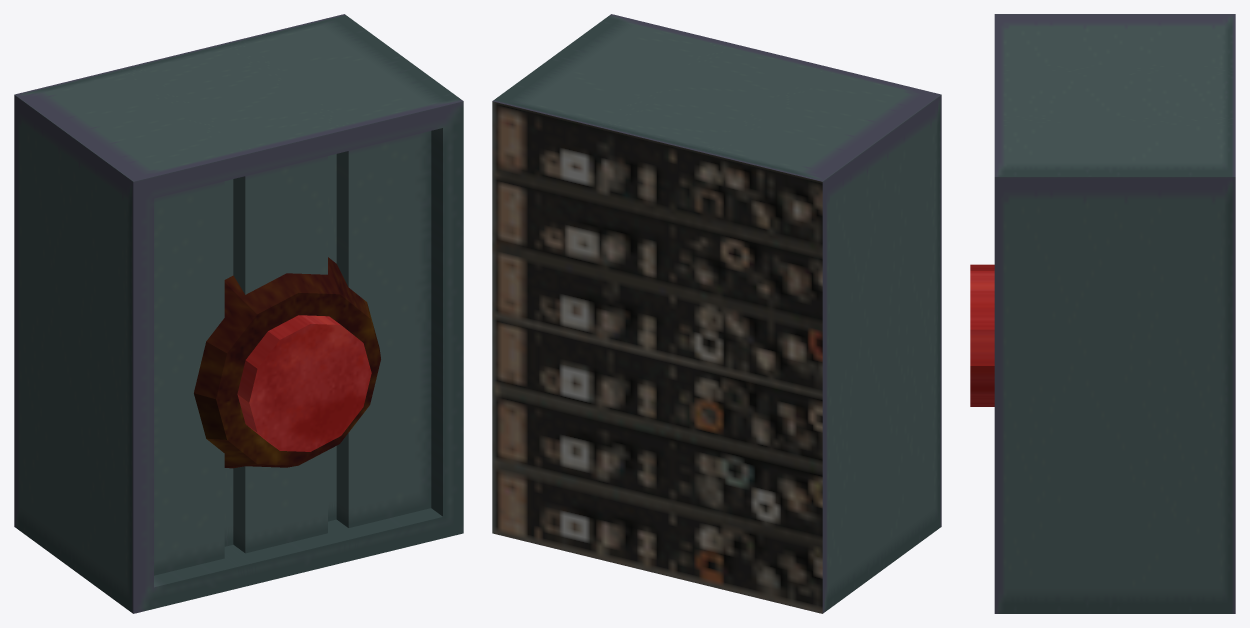
File: switch_button.glb
The picture shows the model from 3 angles, left to right: view 1: azimuth 30°, elevation 25°; view 2: azimuth 150°, elevation 25°; view 3: azimuth 270°, elevation 25°; orthographic projection.
Visible parts, largest first — view 1: SwitchBox, SwitchButton, Button; view 2: SwitchBox; view 3: SwitchBox, Button.
Boxes of the visible parts, x1,y1,x2,y2 form: SwitchBox: (14, 14, 463, 613); SwitchButton: (194, 257, 380, 468); Button: (237, 315, 371, 451); SwitchBox: (492, 14, 941, 613); SwitchBox: (994, 14, 1235, 613); Button: (970, 264, 994, 406).
Bounding box in the file's own units: 1.6 × 2 × 1.1.
Materials: 1 (1 with a texture image).
